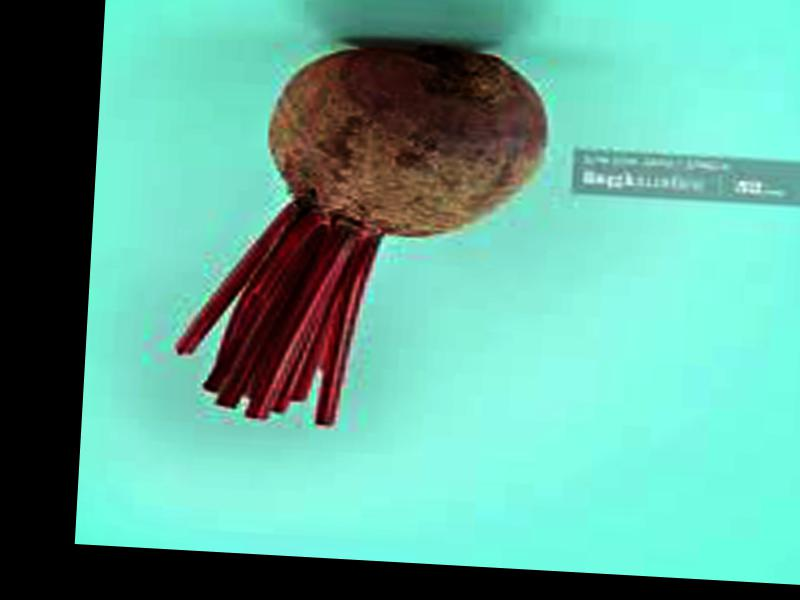Beet: (175, 32, 551, 432)
